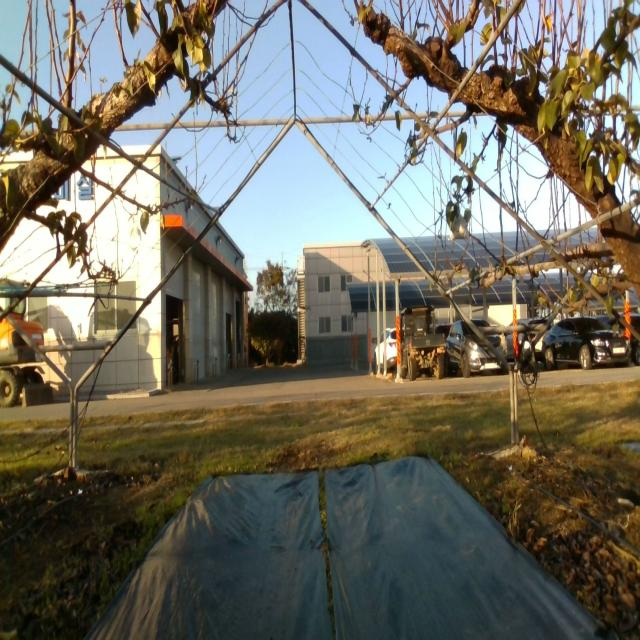pearbags: (448, 215, 469, 242), (128, 225, 142, 253)
